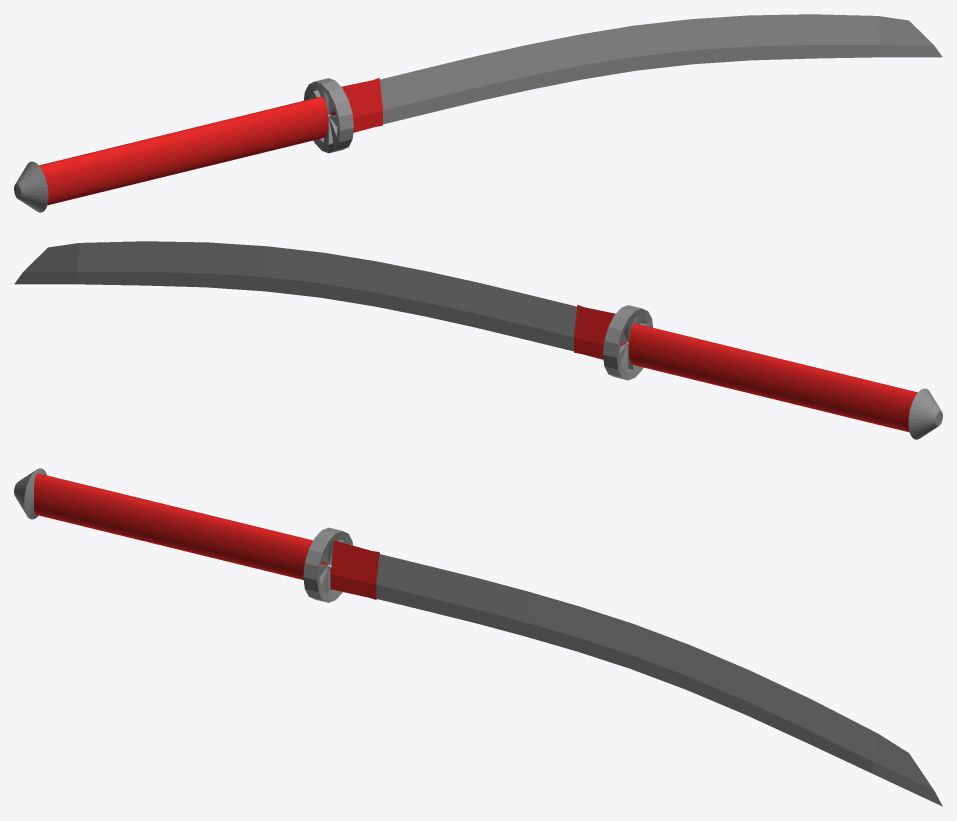
File: Katana.fbx
3 renders of one model, top to bottom at view 1: azimuth 30°, elevation 25°; view 2: azimuth 150°, elevation 25°; view 3: azimuth 330°, elevation 25°, orthographic.
Visible parts, largest first — view 1: KatanaVermelha; view 2: KatanaVermelha; view 3: KatanaVermelha.
Boxes of the visible parts, x1,y1,x2,y2 form: KatanaVermelha: (14,14,942,212); KatanaVermelha: (14,241,942,439); KatanaVermelha: (14,468,942,806).
Bounding box in the file's own units: 1446 × 187 × 99.66.
